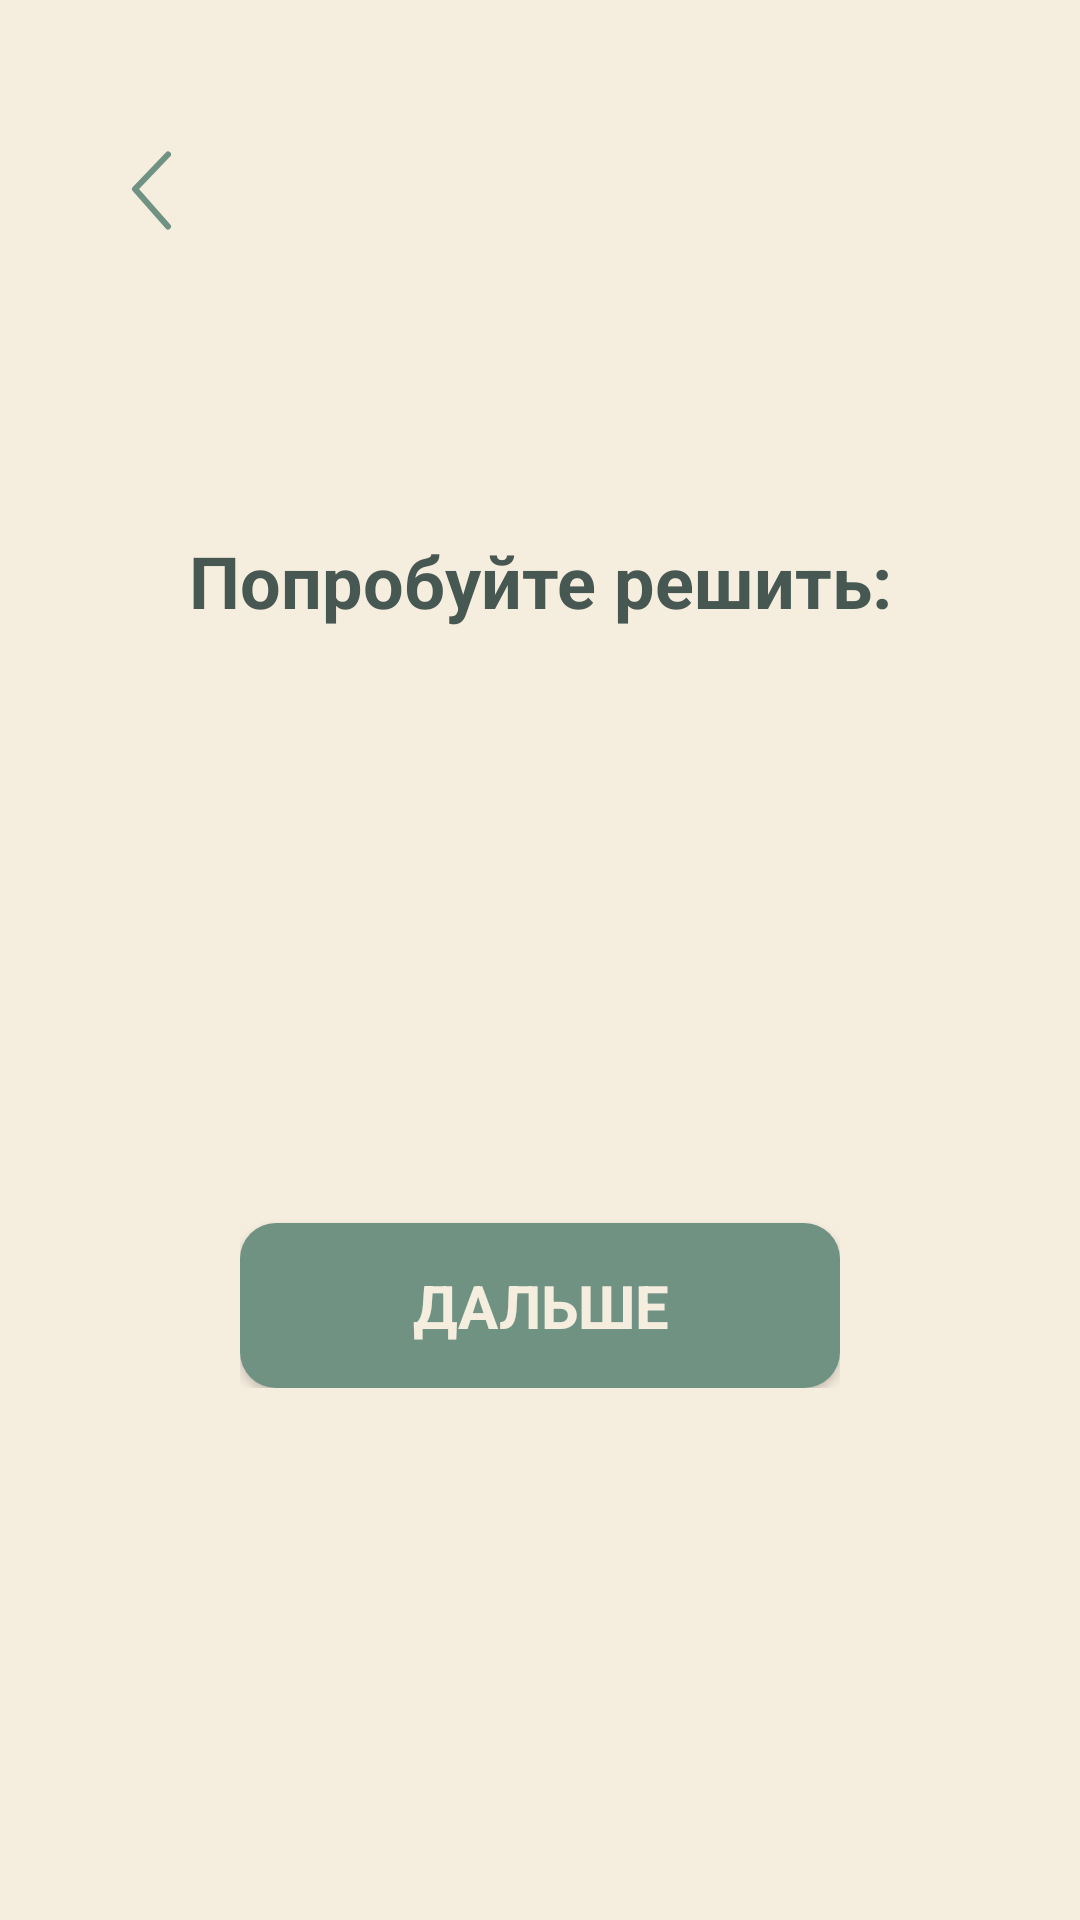

Screen size 1080w x 1920h. Icon name, then its center in pixels as point (x, y):
Back Button: point (151, 190)
